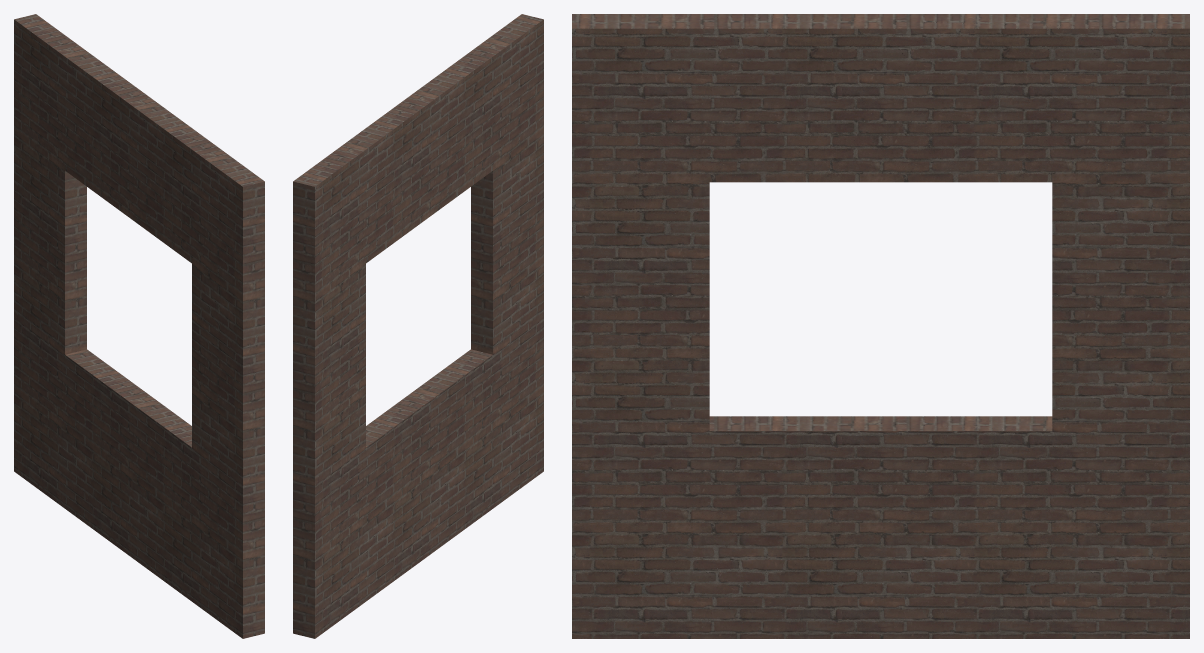
File: soupwindwall008.glb
3 views of the same model, side by side, from view 1: azimuth 30°, elevation 25°; view 2: azimuth 150°, elevation 25°; view 3: azimuth 270°, elevation 25° (orthographic). The views are drawn at different scales.
Visible parts, largest first — view 1: soupwindwall008_high_1; view 2: soupwindwall008_high_1; view 3: soupwindwall008_high_1.
Part boxes in pixels (x1,y1,x2,y2): soupwindwall008_high_1: (14,14,264,638); soupwindwall008_high_1: (293,14,543,638); soupwindwall008_high_1: (572,14,1189,638).
Bounding box in the file's own units: 0.1504 × 2.95 × 2.7.
Materials: 1 (1 with a texture image).
